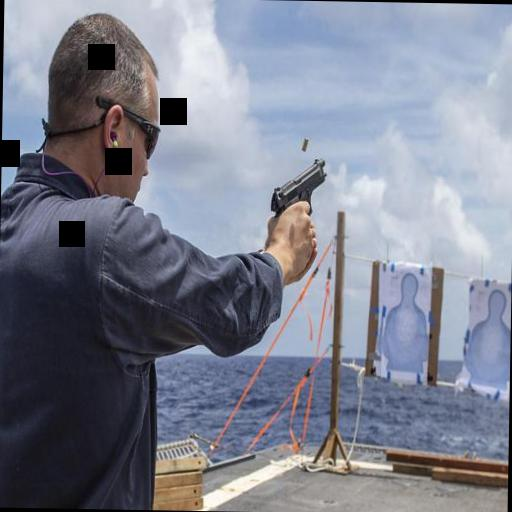Handgun: (268, 151, 324, 229)
